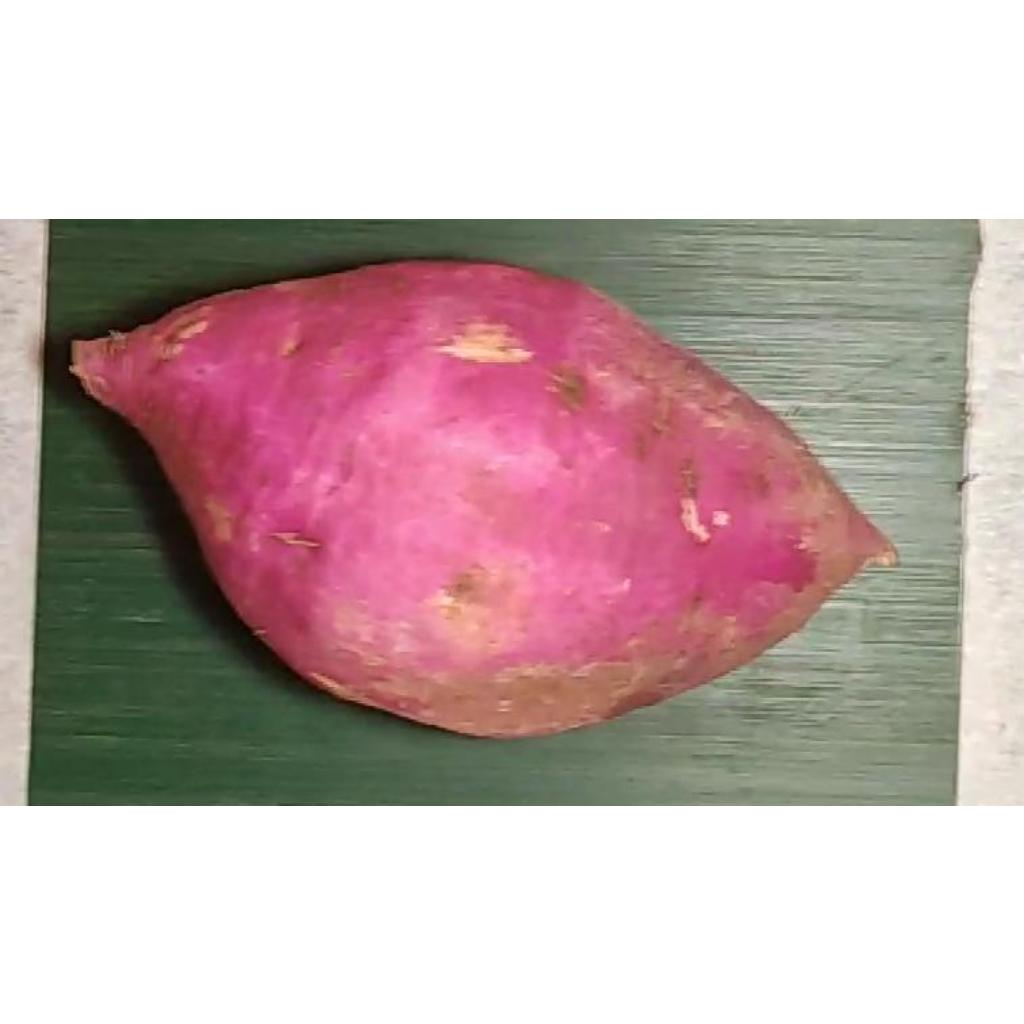Sweet Potato: (66, 260, 898, 740)
